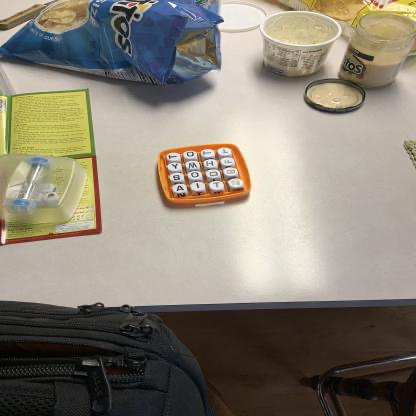a: (174, 185, 188, 194)
b: (225, 169, 239, 177)
d: (207, 170, 221, 179)
f: (222, 158, 235, 166)
h: (205, 160, 218, 169)
i: (192, 183, 206, 192)
n: (229, 179, 244, 188)
o: (189, 172, 203, 181), (185, 152, 198, 160)
s: (171, 174, 185, 182)
t: (211, 182, 225, 191), (202, 150, 216, 158), (219, 149, 232, 157), (168, 154, 181, 162)
w: (187, 162, 200, 170)
y: (169, 164, 183, 172)
